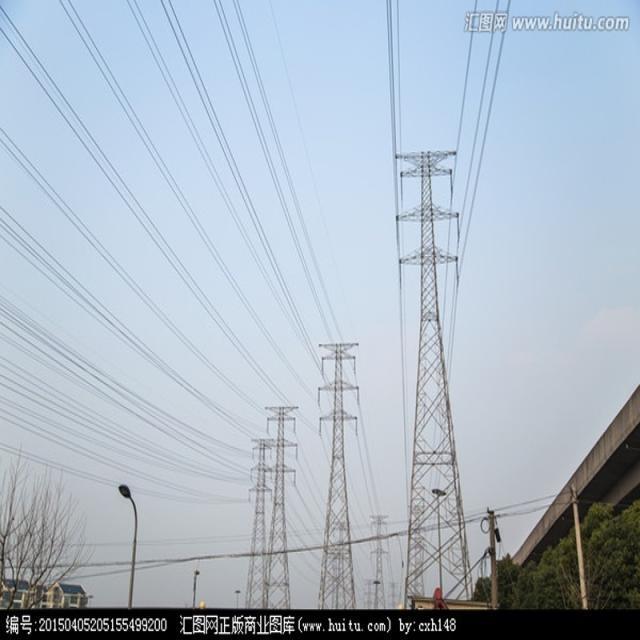non-critical vegetation: (394, 138, 482, 597), (319, 329, 358, 614), (262, 394, 302, 606)
